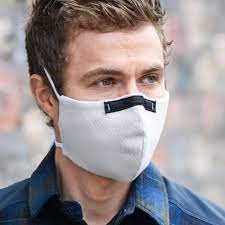FaceMask: (57, 93, 169, 181)
